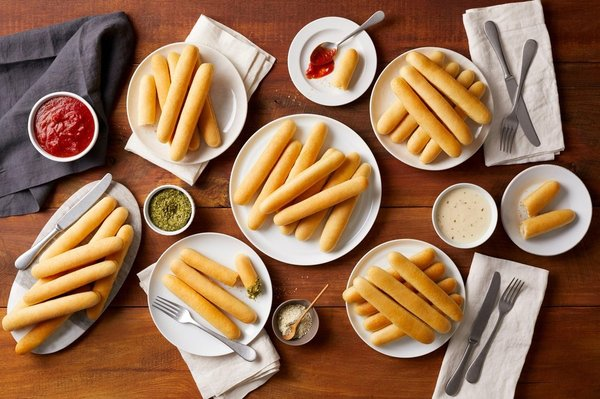salad: (271, 282, 329, 346)
sandwich: (458, 276, 526, 395), (446, 271, 501, 395), (457, 271, 502, 381)
sushi: (228, 114, 383, 266), (147, 233, 274, 361), (126, 42, 248, 167), (342, 239, 468, 358), (287, 11, 385, 107), (500, 164, 594, 258), (27, 91, 100, 163), (431, 182, 498, 249), (143, 184, 195, 238)
